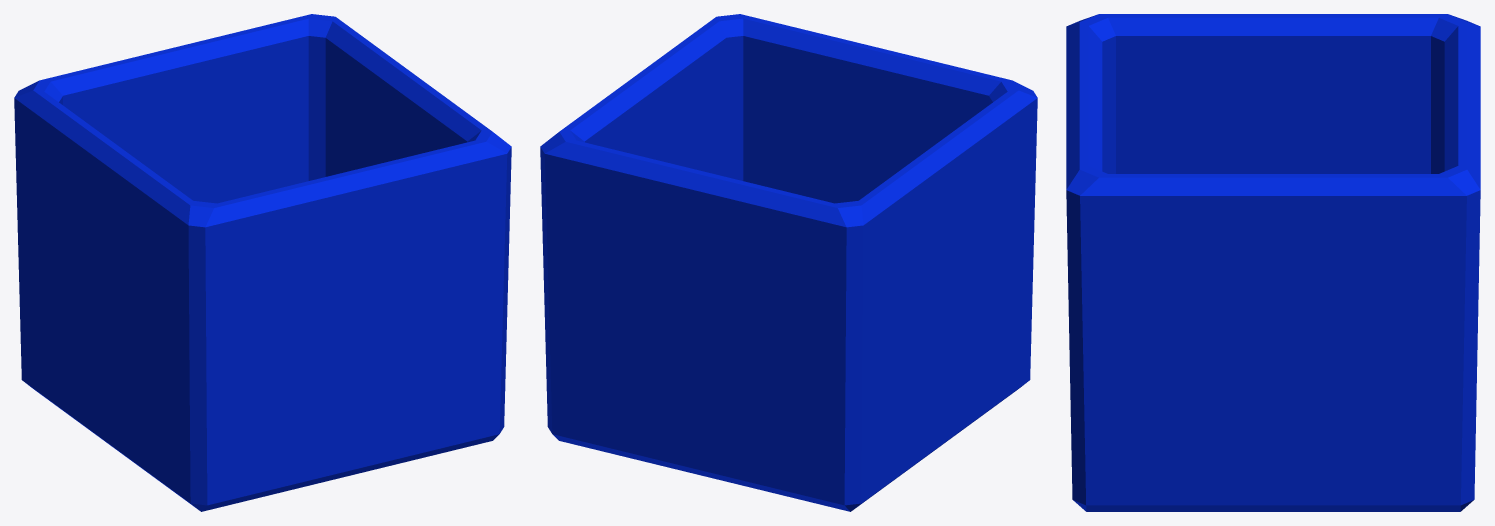
Rendered from Canestro_cubo.fbx.
3 renders of one model, left to right at view 1: azimuth 30°, elevation 25°; view 2: azimuth 150°, elevation 25°; view 3: azimuth 270°, elevation 25°, orthographic. The views are drawn at different scales.
Visible parts, largest first — view 1: Cube; view 2: Cube; view 3: Cube.
Part boxes in pixels (x1,y1,x2,y2): Cube: (14,14,511,511); Cube: (540,14,1037,511); Cube: (1066,14,1480,511).
Bounding box in the file's own units: 121 × 109 × 121.
